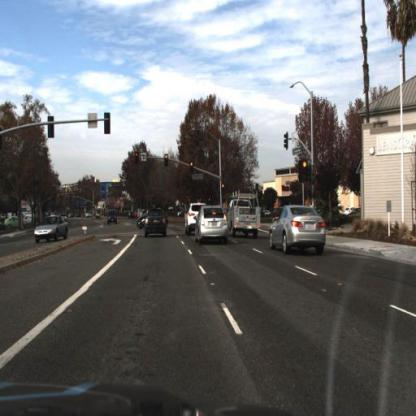car: (271, 202, 328, 257), (225, 191, 264, 235), (195, 204, 230, 247), (227, 195, 260, 239), (32, 212, 71, 247), (34, 213, 69, 242), (144, 210, 168, 241), (144, 207, 168, 237), (185, 202, 203, 238), (134, 208, 148, 232), (107, 206, 119, 227), (107, 208, 118, 227), (60, 212, 70, 228)
trafficLight: (220, 179, 226, 194)
trafficLight-Red: (300, 153, 310, 186), (301, 161, 310, 182), (164, 152, 171, 168), (164, 152, 170, 168), (191, 160, 196, 176), (190, 160, 195, 175)
trafficLight-RedLeft: (134, 151, 141, 168), (133, 149, 140, 163)
